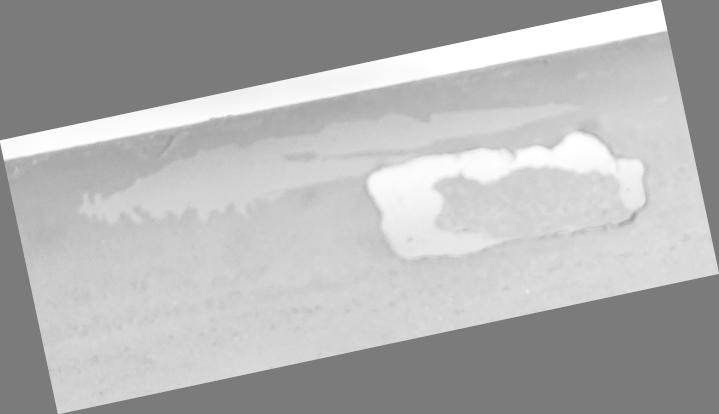paint-off: (0, 1, 718, 414)
